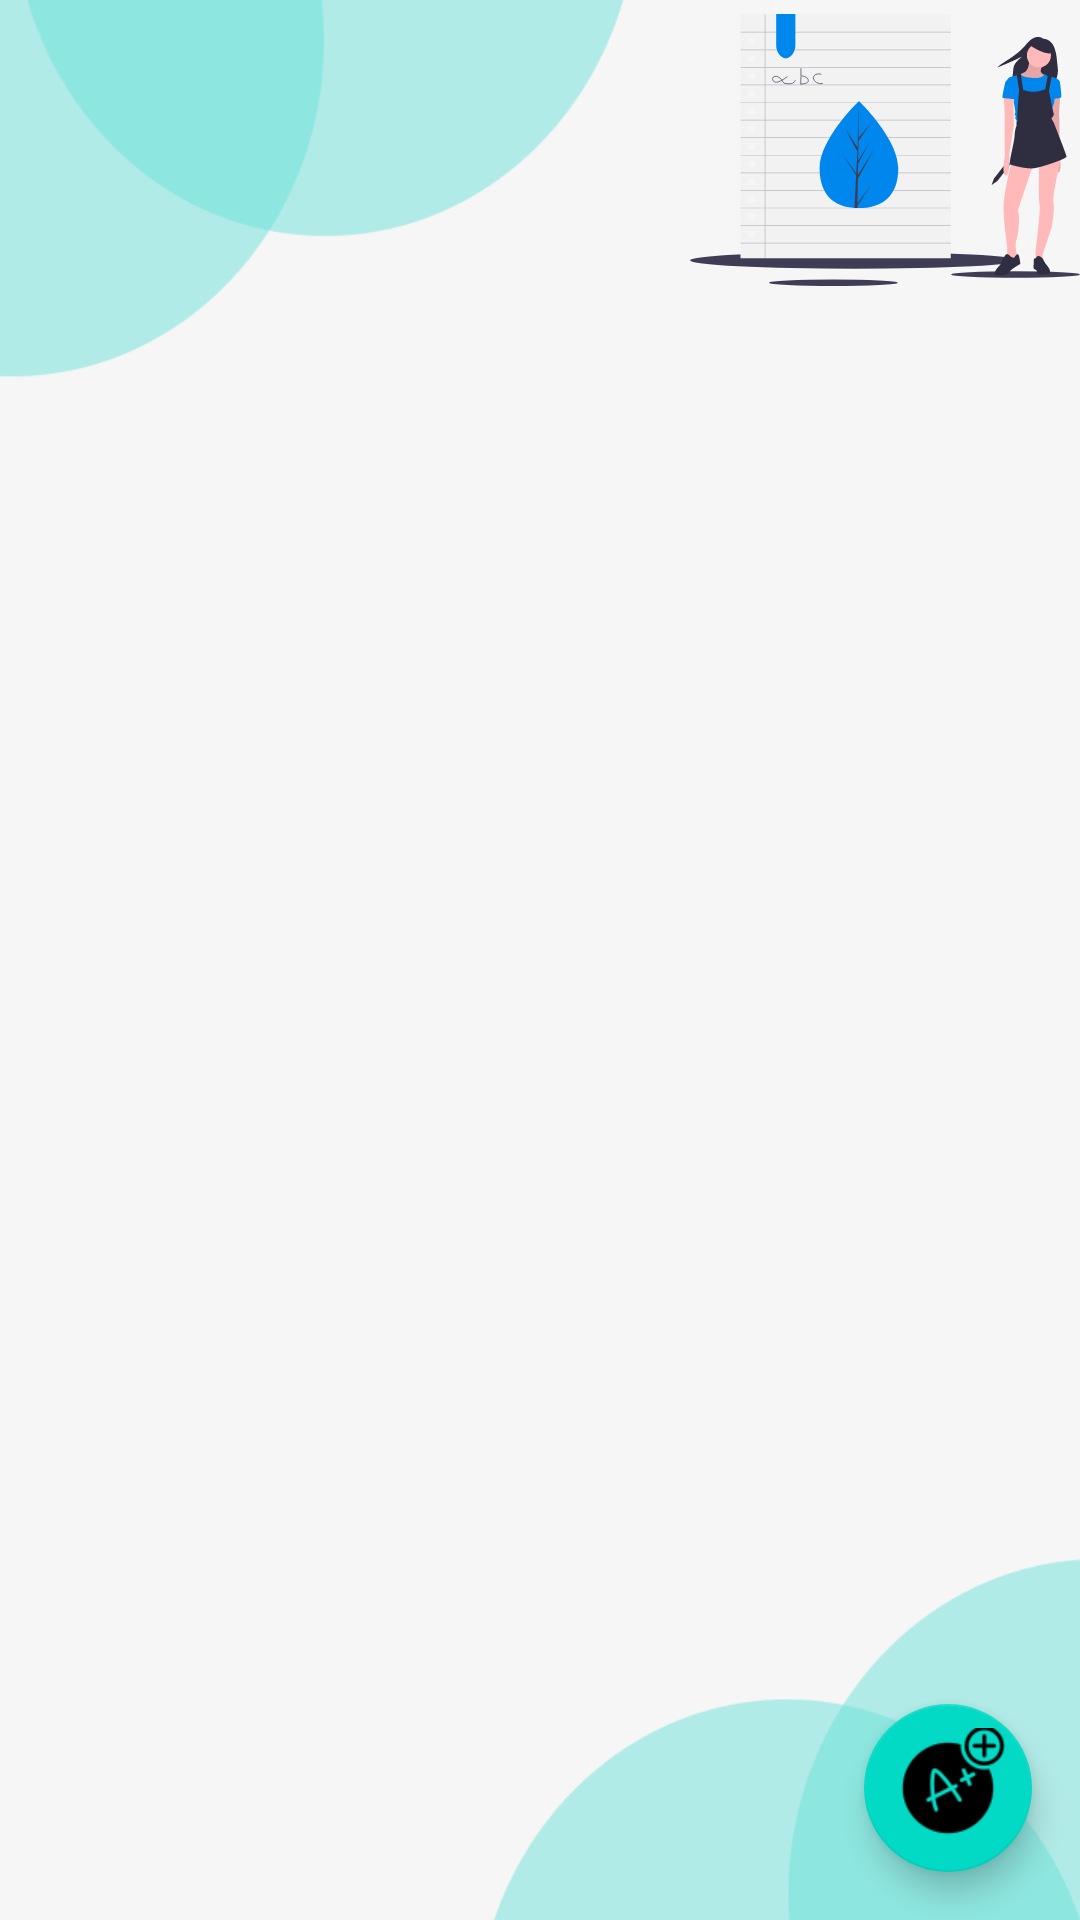

Icon click points for this 1080 × 1920 phone screenshot, format (x=x, y=y):
Add Student: (x=948, y=1788)
